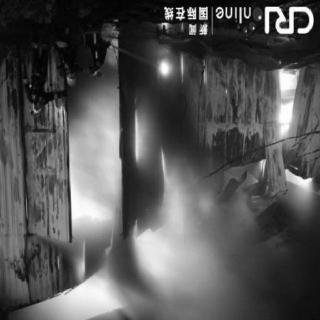Fire: (61, 97, 192, 317), (267, 62, 314, 194)
other: (156, 53, 170, 81)
